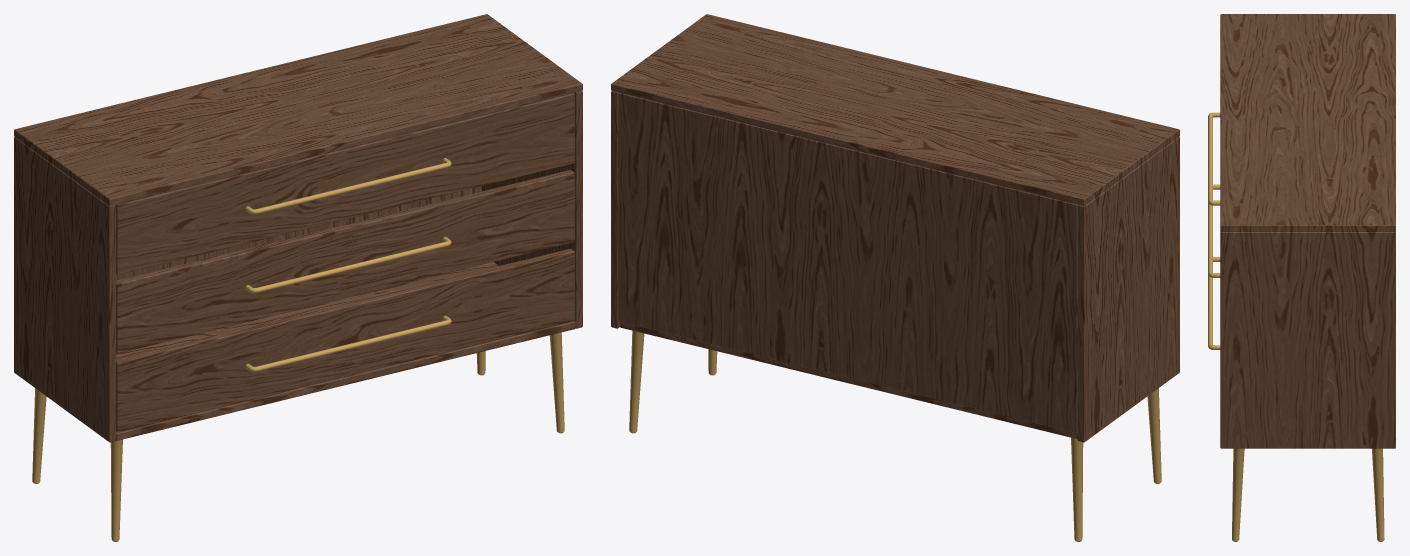
File: comoda_nogal_120.glb
The picture shows the model from 3 angles, left to right: view 1: azimuth 30°, elevation 25°; view 2: azimuth 150°, elevation 25°; view 3: azimuth 270°, elevation 25°; orthographic projection. The views are drawn at different scales.
Visible parts, largest first — view 1: comoda_nogal_120; view 2: comoda_nogal_120; view 3: comoda_nogal_120.
Part boxes in pixels (x1,y1,x2,y2): comoda_nogal_120: [14, 14, 582, 541]; comoda_nogal_120: [611, 14, 1179, 541]; comoda_nogal_120: [1208, 14, 1395, 541].
Bounding box in the file's own units: 1.2 × 0.8501 × 0.4498.
2 materials, 1 textured.
